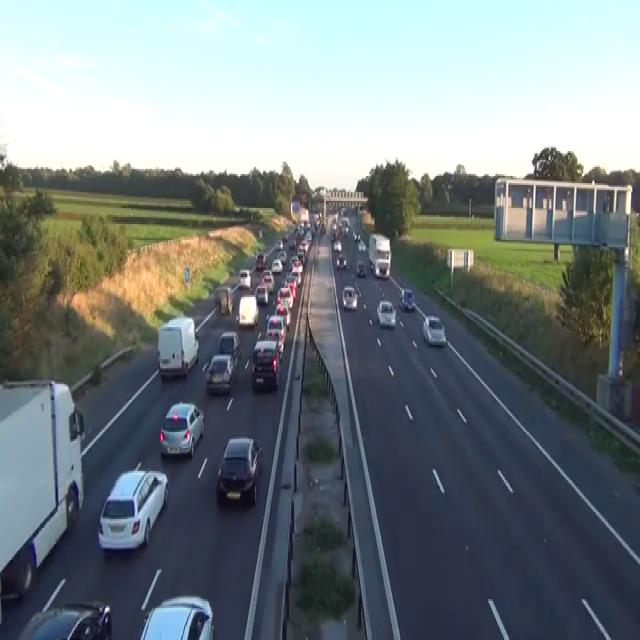Car: (97, 461, 168, 551), (16, 599, 112, 638), (138, 594, 214, 638), (216, 436, 263, 506), (159, 402, 204, 457), (251, 340, 280, 391), (204, 352, 235, 395), (422, 314, 446, 346), (236, 295, 259, 327), (218, 331, 241, 361), (264, 329, 284, 361), (266, 315, 286, 345), (376, 299, 396, 327), (214, 286, 233, 315), (276, 284, 293, 310), (274, 304, 291, 329), (342, 284, 357, 310), (399, 288, 415, 311), (371, 258, 389, 277), (261, 268, 274, 294), (254, 283, 268, 304), (238, 268, 251, 290), (285, 277, 297, 299), (289, 256, 303, 274), (339, 217, 350, 236), (356, 260, 366, 278), (336, 252, 347, 268), (271, 258, 282, 274), (255, 252, 265, 268), (277, 249, 287, 263), (354, 282, 361, 298), (352, 229, 360, 242), (357, 240, 366, 251), (333, 240, 342, 251), (313, 214, 320, 228), (288, 238, 296, 249), (276, 238, 283, 249), (320, 224, 326, 233), (283, 233, 288, 242), (258, 228, 262, 238)
Truck: (0, 377, 84, 603), (157, 316, 199, 378), (368, 233, 391, 277)
